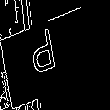P_S: (39, 26, 71, 84)
